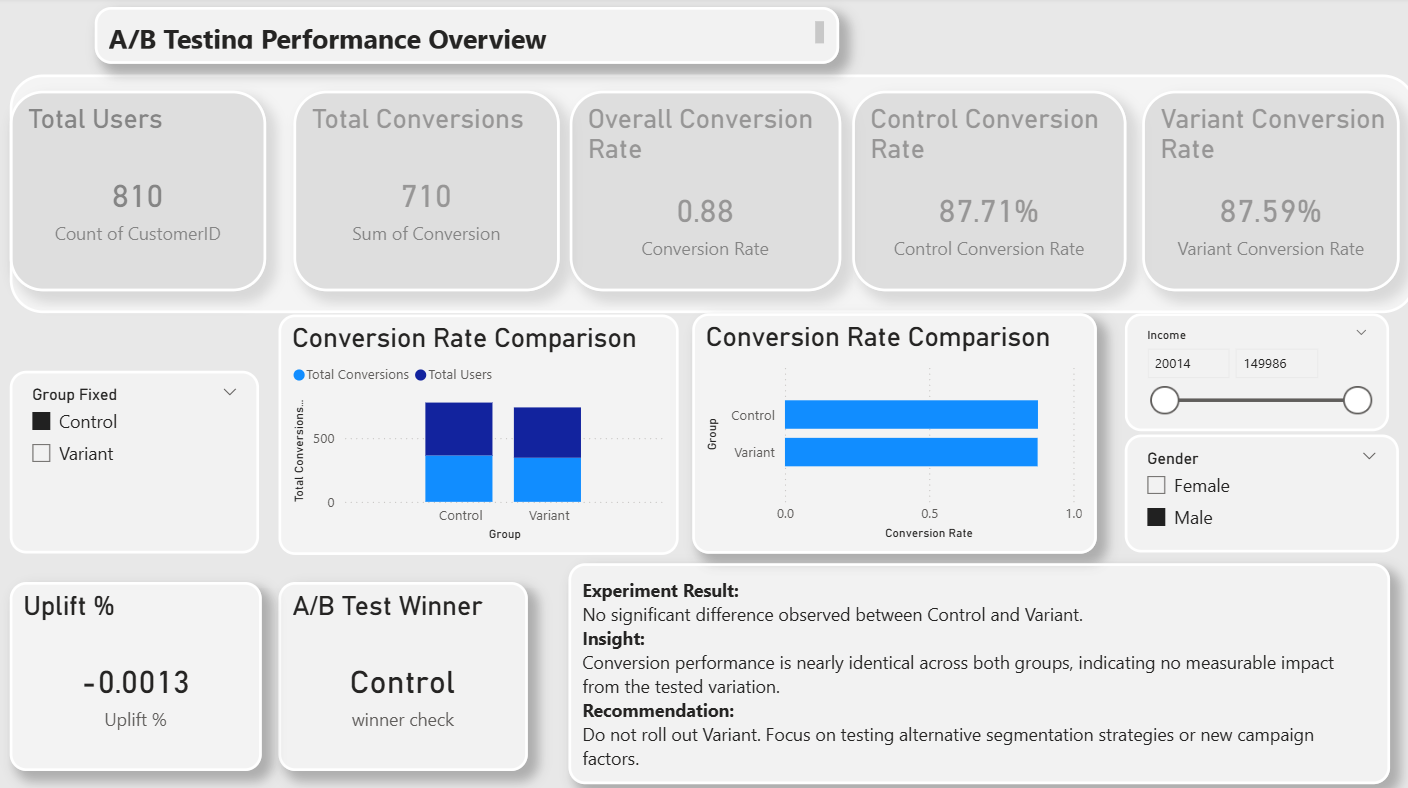

The page's visual inventory and layout, read from the dashboard file:
{"tool":"powerbi","page":{"name":" Executive Summary","canvas":[1280,720],"ordinal":0},"visuals":[{"type":"card","title":"Total Users","fields":{"Values":["CountNonNull(digital marketing campaign dataset.CustomerID)"]},"box":[12.2,84.4,231.1,181],"z":0},{"type":"card","title":"Total Conversions","fields":{"Values":["Sum(digital marketing campaign dataset.Conversion)"]},"box":[267.8,84.4,239.7,181],"z":1000},{"type":"card","title":"Overall Conversion Rate","fields":{"Values":["digital marketing campaign dataset.Conversion Rate"]},"box":[517.3,84.4,244.6,181],"z":2000},{"type":"card","title":"Control Conversion Rate","fields":{"Values":["digital marketing campaign dataset.Control Conversion Rate"]},"box":[771.6,84.4,247,181],"z":3000},{"type":"card","title":"Variant Conversion Rate","fields":{"Values":["digital marketing campaign dataset.Variant Conversion Rate"]},"box":[1033.3,84.4,232.3,181],"z":4000},{"type":"textbox","box":[12.2,69.7,1268.1,215.2],"z":5000},{"type":"clusteredBarChart","title":"Conversion Rate Comparison","fields":{"Category":["digital marketing campaign dataset.Group"],"Y":["digital marketing campaign dataset.Conversion Rate"]},"box":[628.2,284.6,364.9,216.9],"z":6000},{"type":"columnChart","title":"Conversion Rate Comparison","fields":{"Category":["digital marketing campaign dataset.Group"],"Y":["digital marketing campaign dataset.Total Conversions","digital marketing campaign dataset.Total Users"]},"box":[254.5,285.9,361.1,216.9],"z":7000},{"type":"card","title":"A/B Test Winner","fields":{"Values":["digital marketing campaign dataset.winner check"]},"box":[254.5,527.9,224.5,170.5],"z":8000},{"type":"card","title":"Uplift %","fields":{"Values":["digital marketing campaign dataset.Uplift %"]},"box":[12.5,527.9,227,170.5],"z":9000},{"type":"slicer","fields":{"Values":["digital marketing campaign dataset.Income"]},"box":[1018.2,284.6,238.2,106.6],"z":11000},{"type":"slicer","fields":{"Values":["digital marketing campaign dataset.Gender"]},"box":[1018.2,395,247,106.6],"z":12000},{"type":"slicer","fields":{"Values":["digital marketing campaign dataset.Group Fixed"]},"box":[12.2,337.5,225,165.1],"z":13000},{"type":"textbox","box":[516,511.1,741,199.3],"z":14000},{"type":"textbox","box":[89.3,8.6,671.3,51.4],"z":15000}]}

Visuals, with their boxes in screenshot pixels (x1, y1, x2, y2), scaled from the page's 1280x720 canvas onto the 1408x788 screenshot:
"Total Users" card: Rect(13, 92, 268, 290)
"Total Conversions" card: Rect(295, 92, 558, 290)
"Overall Conversion Rate" card: Rect(569, 92, 838, 290)
"Control Conversion Rate" card: Rect(849, 92, 1120, 290)
"Variant Conversion Rate" card: Rect(1137, 92, 1392, 290)
textbox: Rect(13, 76, 1407, 312)
"Conversion Rate Comparison" clusteredBarChart: Rect(691, 311, 1092, 549)
"Conversion Rate Comparison" columnChart: Rect(280, 313, 677, 550)
"A/B Test Winner" card: Rect(280, 578, 527, 764)
"Uplift %" card: Rect(14, 578, 263, 764)
slicer - digital marketing campaign dataset.Income: Rect(1120, 311, 1382, 428)
slicer - digital marketing campaign dataset.Gender: Rect(1120, 432, 1392, 549)
slicer - digital marketing campaign dataset.Group Fixed: Rect(13, 369, 261, 550)
textbox: Rect(568, 559, 1383, 777)
textbox: Rect(98, 9, 837, 66)
